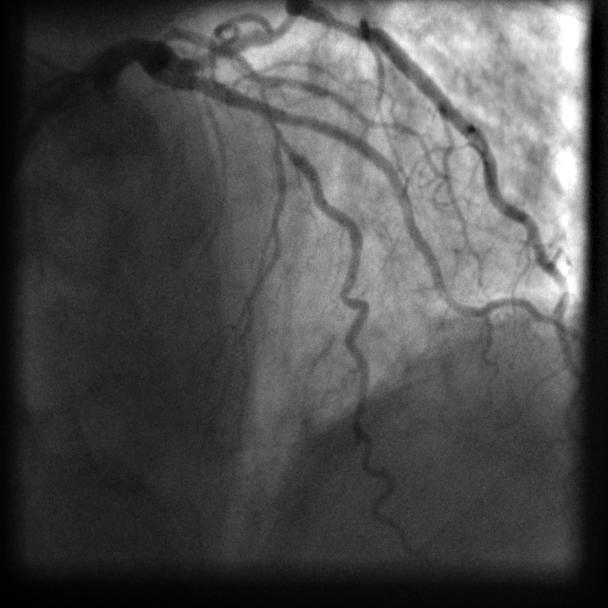Stenosis: (248, 65, 280, 126)
